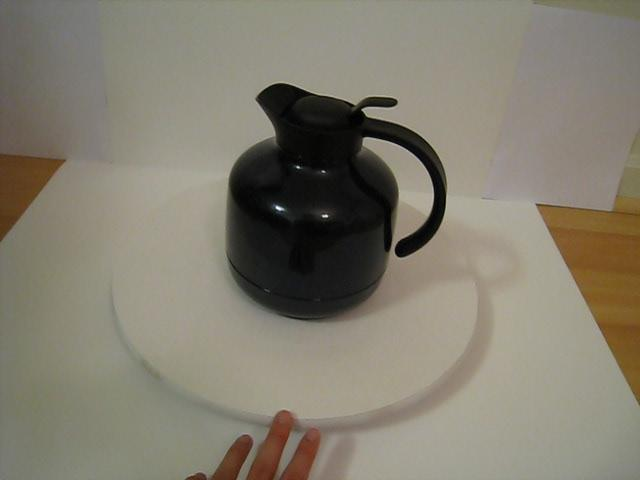pitcher: (203, 64, 459, 339)
